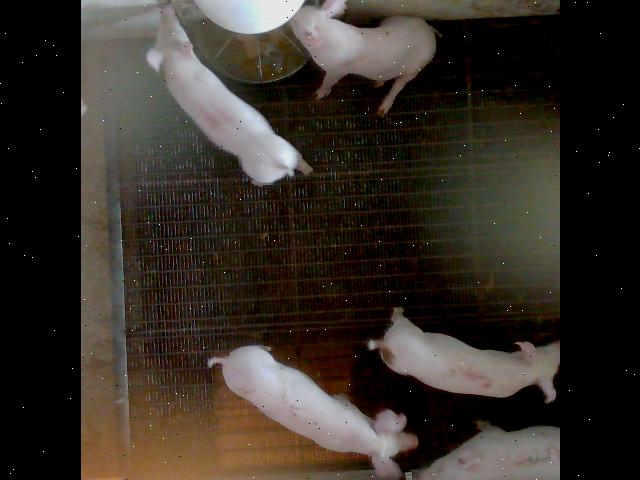pig-3: (412, 422, 560, 480)
pig-4: (146, 8, 311, 184)
pig-5: (368, 308, 560, 402)
